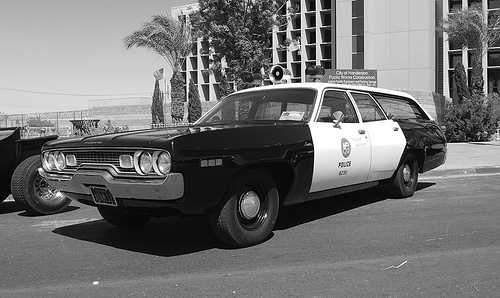Police Car: (49, 71, 454, 277)
